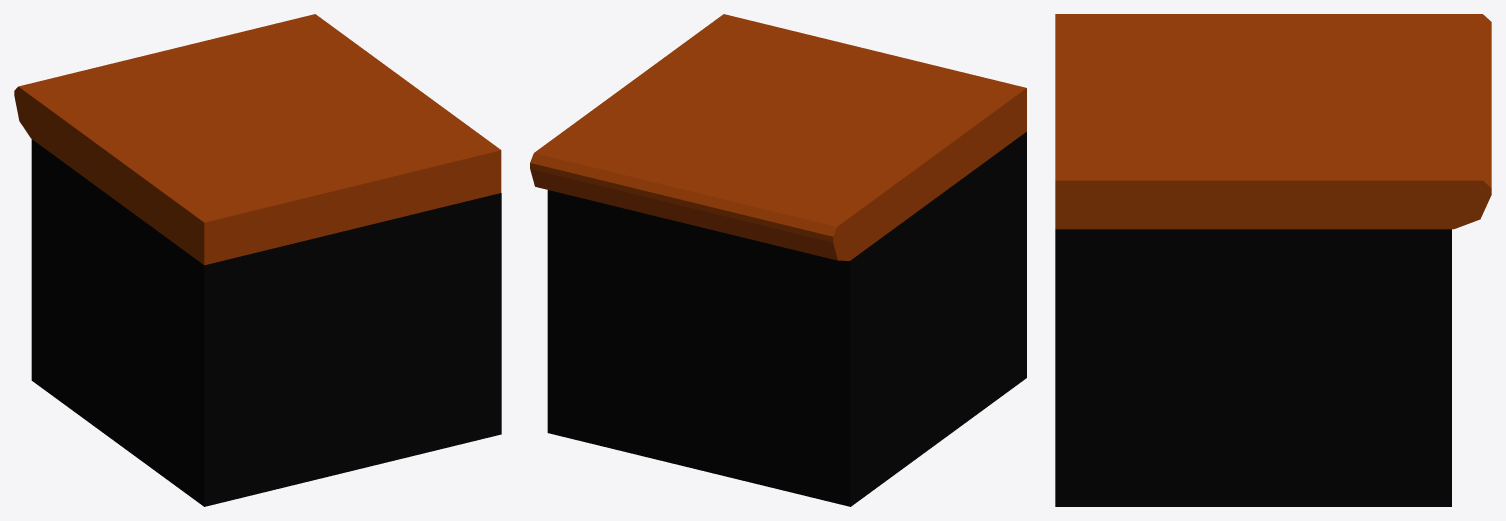
File: workplan.glb
The picture shows the model from 3 angles, left to right: view 1: azimuth 30°, elevation 25°; view 2: azimuth 150°, elevation 25°; view 3: azimuth 270°, elevation 25°; orthographic projection. The views are drawn at different scales.
Visible parts, largest first — view 1: Cube.007; view 2: Cube.007; view 3: Cube.007.
Part boxes in pixels (<box>): Cube.007: <box>14,14,501,506</box>; Cube.007: <box>530,14,1026,506</box>; Cube.007: <box>1055,14,1491,506</box>.
Bounding box in the file's own units: 3.52 × 3.22 × 3.9.
